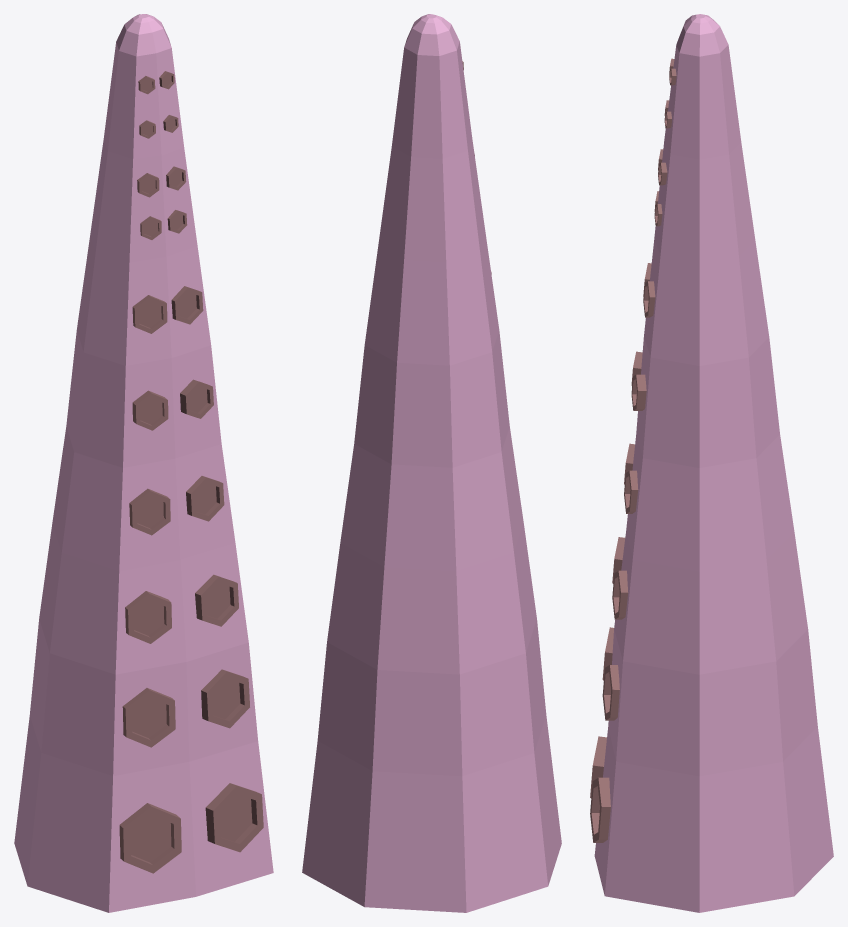
File: TentacleProp_Alvaro.fbx
3 views of the same model, side by side, from view 1: azimuth 30°, elevation 25°; view 2: azimuth 150°, elevation 25°; view 3: azimuth 270°, elevation 25° (orthographic).
Parts seen in each view (by area): view 1: Cylinder.003; view 2: Cylinder.003; view 3: Cylinder.003.
Boxes of the visible parts, x1,y1,x2,y2 form: Cylinder.003: (14, 14, 273, 912); Cylinder.003: (302, 14, 561, 912); Cylinder.003: (590, 14, 833, 912).
Bounding box in the file's own units: 749 × 2587 × 680.
